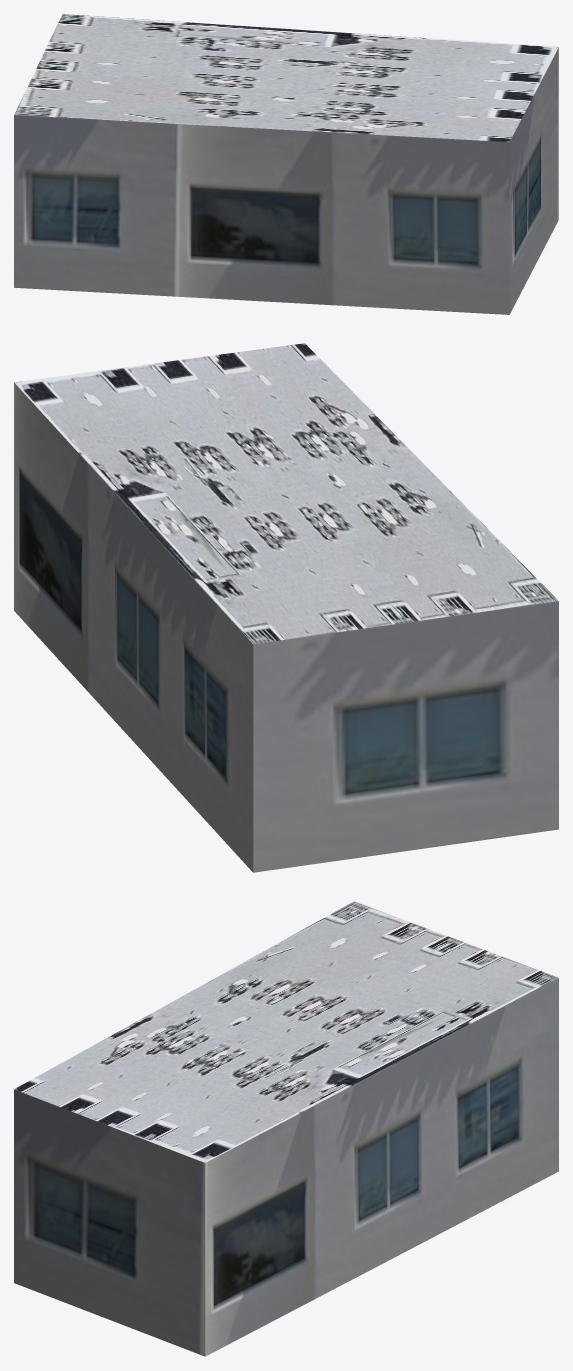
The model's file is ResTex__5225.fbx.
3 views of the same model, one above another, from view 1: azimuth 30°, elevation 25°; view 2: azimuth 150°, elevation 25°; view 3: azimuth 270°, elevation 25° (orthographic). The views are drawn at different scales.
Parts seen in each view (by area): view 1: CityEngineMaterial_10_m, CityEngineMaterial_4_m; view 2: CityEngineMaterial_10_m, CityEngineMaterial_4_m; view 3: CityEngineMaterial_10_m, CityEngineMaterial_4_m.
Boxes of the visible parts, bbox=[...] form: CityEngineMaterial_10_m: bbox=[14, 47, 558, 314]; CityEngineMaterial_4_m: bbox=[14, 14, 558, 142]; CityEngineMaterial_10_m: bbox=[14, 383, 558, 872]; CityEngineMaterial_4_m: bbox=[14, 343, 558, 644]; CityEngineMaterial_10_m: bbox=[14, 978, 558, 1356]; CityEngineMaterial_4_m: bbox=[14, 901, 558, 1162].
Bounding box in the file's own units: 8.7 × 3 × 7.65.
2 materials, 2 textured.
